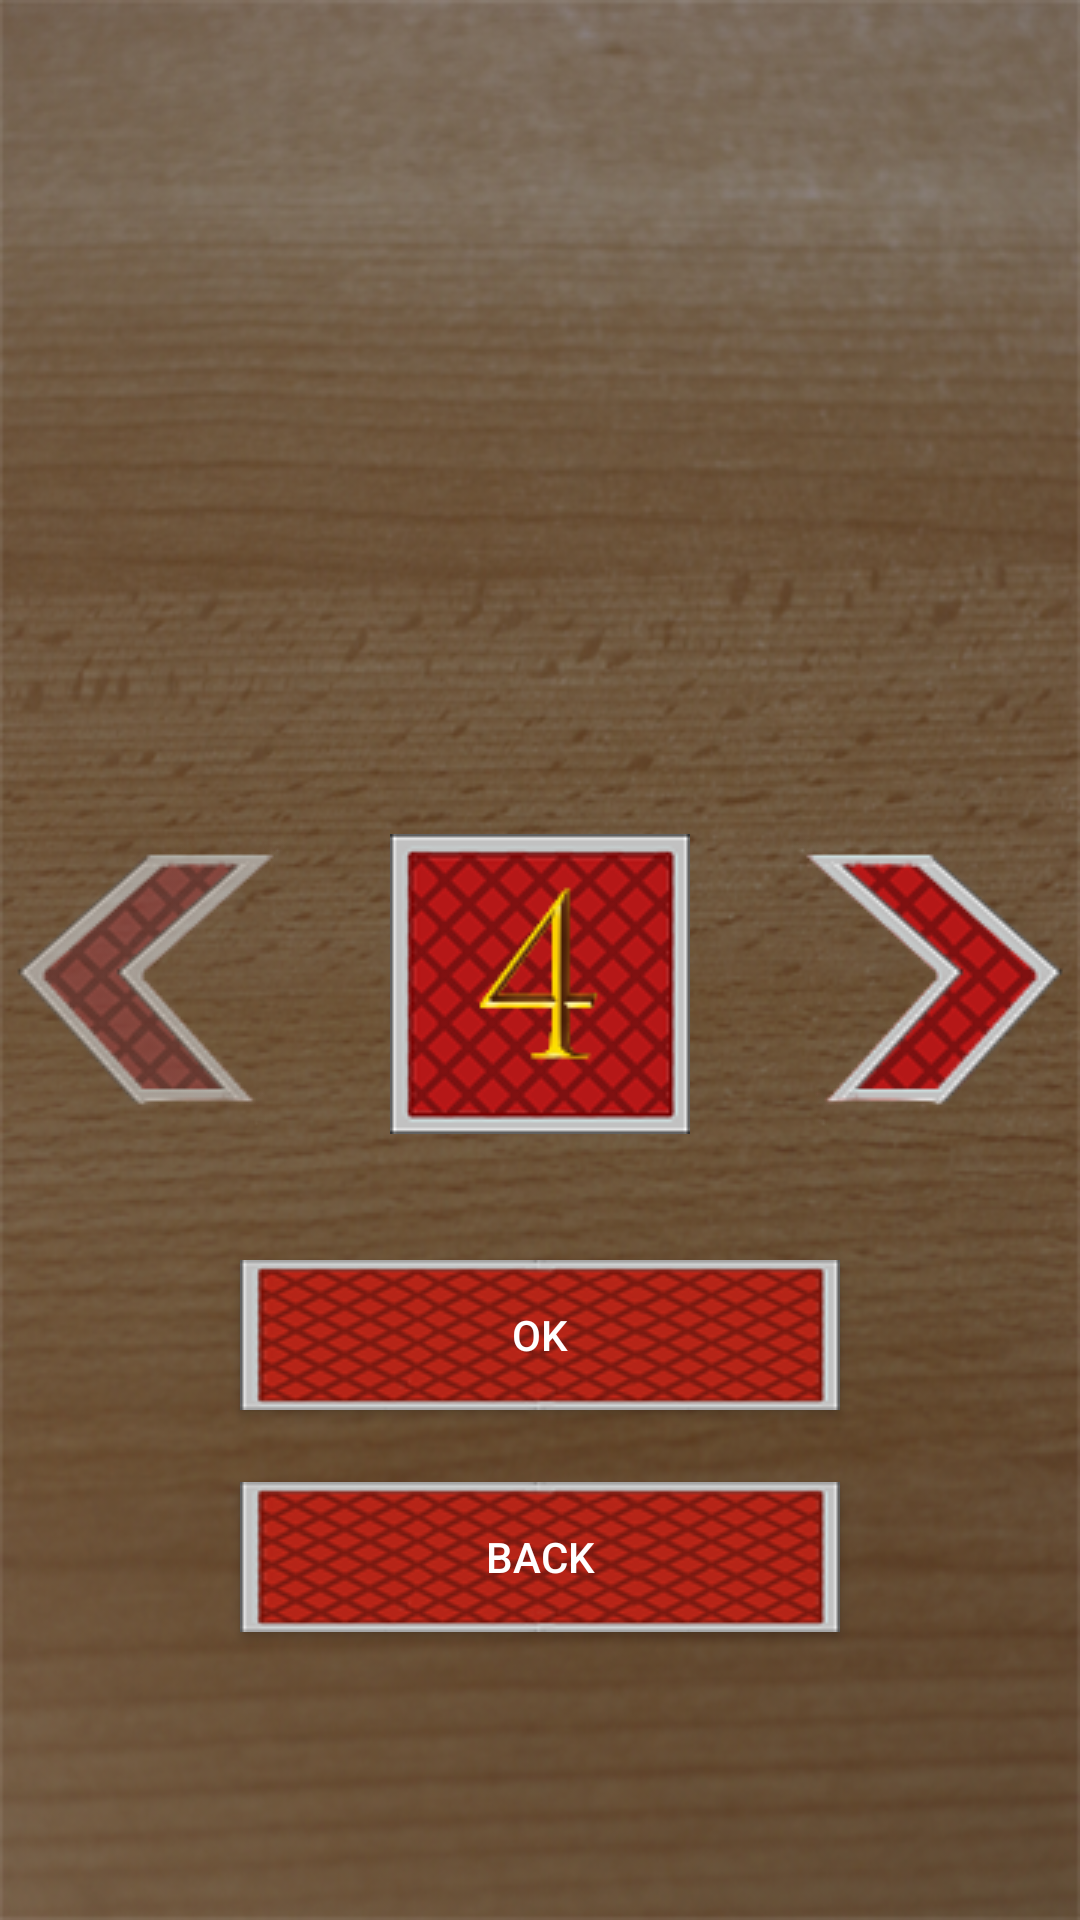

Icon bounding boxes for this 1080px×1920px phone screenshot, format (left=x1, top=y1, right=x2, bottom=y2):
arrow left transparency: (left=0, top=854, right=273, bottom=1114)
arrow right: (left=801, top=838, right=1080, bottom=1105)
